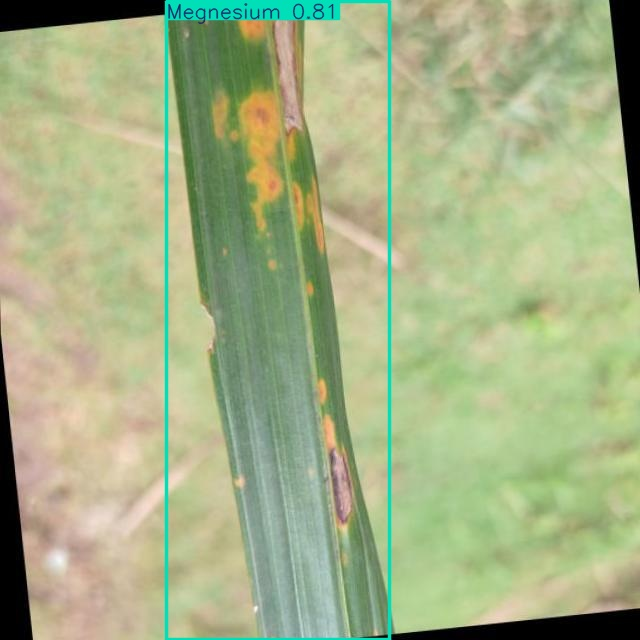Megnesium: (166, 1, 390, 640)
